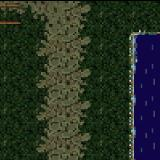Interaction: (118, 22, 141, 160), (0, 0, 27, 29), (141, 22, 160, 42)
Slow: (137, 35, 160, 160)
